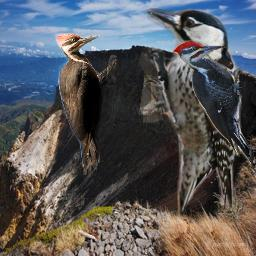Woodpecker: (138, 8, 239, 217), (172, 40, 255, 168), (55, 33, 118, 175)
